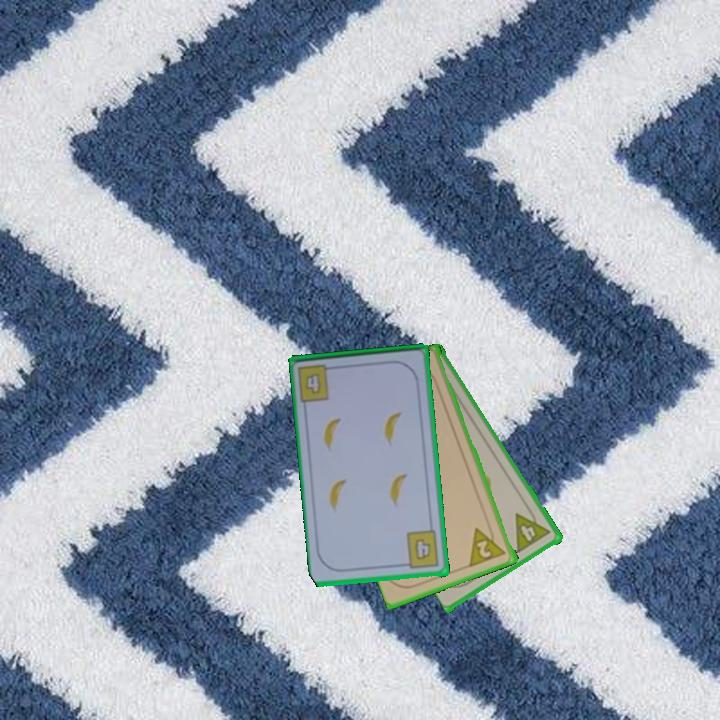2p: (466, 521, 510, 570)
4b: (399, 528, 442, 572), (302, 370, 324, 398)
4p: (512, 504, 554, 555)
